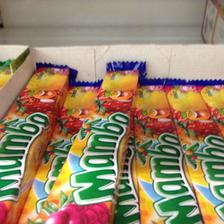Suessigkeit: (66, 61, 136, 221), (3, 56, 65, 220), (128, 74, 196, 222), (165, 74, 221, 222)
